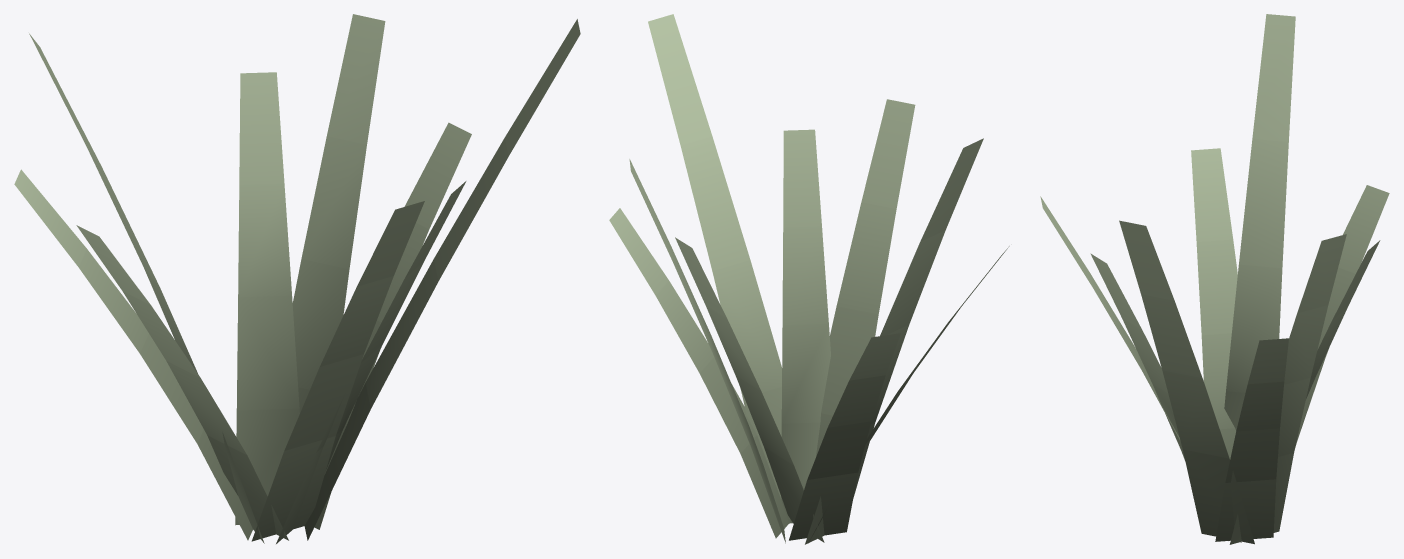
File: herb_fern.glb
The picture shows the model from 3 angles, left to right: view 1: azimuth 30°, elevation 25°; view 2: azimuth 150°, elevation 25°; view 3: azimuth 270°, elevation 25°; orthographic projection. The views are drawn at different scales.
Parts seen in each view (by area): view 1: foliage; view 2: foliage; view 3: foliage.
Part boxes in pixels (bbox=[...]): foliage: bbox=[14, 14, 580, 543]; foliage: bbox=[609, 14, 1009, 544]; foliage: bbox=[1040, 14, 1389, 544].
Bounding box in the file's own units: 0.9325 × 1 × 0.7394.
